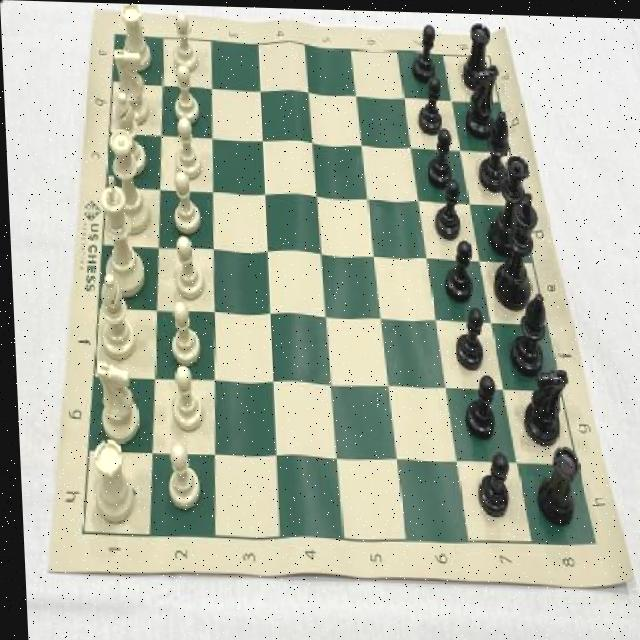bishop: (505, 288, 545, 372), (474, 108, 510, 191)
black-bishop: (488, 187, 541, 309)
black-king: (518, 364, 567, 444), (461, 60, 500, 137)
black-knight: (472, 449, 507, 515), (459, 372, 494, 435), (450, 305, 485, 368), (421, 125, 452, 186), (442, 239, 472, 301), (431, 176, 460, 238), (416, 74, 445, 134), (411, 17, 438, 80)
black-pawn: (483, 150, 534, 255)
black-queen: (530, 443, 578, 522), (459, 21, 492, 88)
black-rook: (93, 273, 134, 361), (111, 92, 146, 175)
white-bishop: (97, 173, 144, 298)
white-king: (91, 359, 136, 444), (111, 46, 150, 124)
white-knight: (161, 437, 197, 509), (167, 234, 204, 300), (165, 362, 200, 431), (163, 301, 199, 364), (166, 170, 200, 233), (170, 116, 200, 179), (169, 64, 200, 122), (167, 13, 197, 71)
white-pawn: (106, 127, 151, 235)
white-queen: (83, 437, 131, 525), (118, 3, 152, 71)
